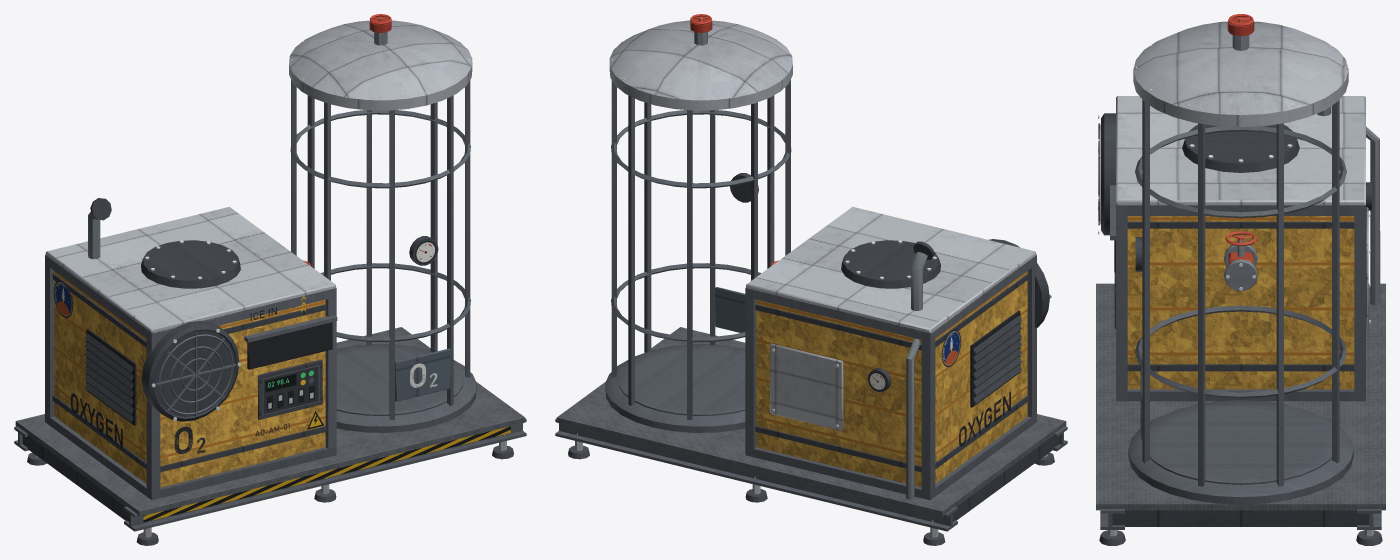
Rendered from air_maker.glb.
3 renders of one model, left to right at view 1: azimuth 30°, elevation 25°; view 2: azimuth 150°, elevation 25°; view 3: azimuth 270°, elevation 25°, orthographic. The views are drawn at different scales.
Parts seen in each view (by area): view 1: air_body; view 2: air_body; view 3: air_body.
Part boxes in pixels (bbox=[...]): air_body: bbox=[14, 14, 526, 545]; air_body: bbox=[555, 14, 1067, 545]; air_body: bbox=[1096, 14, 1385, 545].
Size of the model in its own units: 6.4 by 6.44 by 3.5.
Materials: 7 (5 with a texture image).
